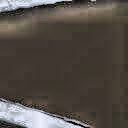crackTip: (1, 1, 128, 125)
